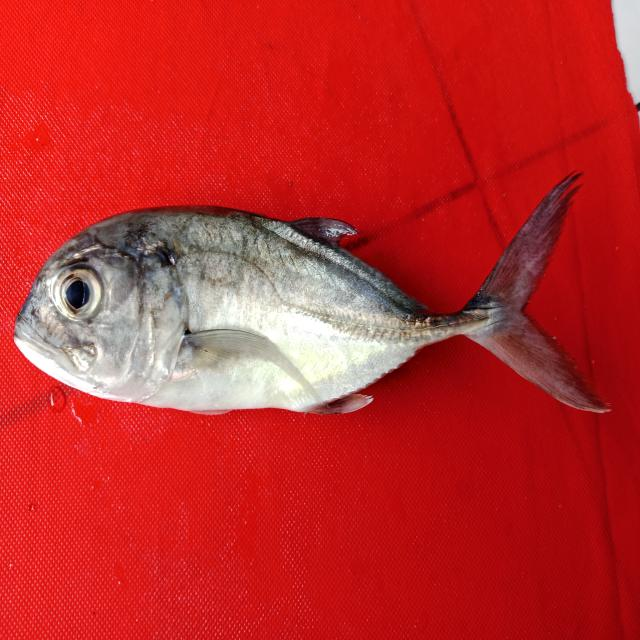ikan: (13, 168, 611, 418)
